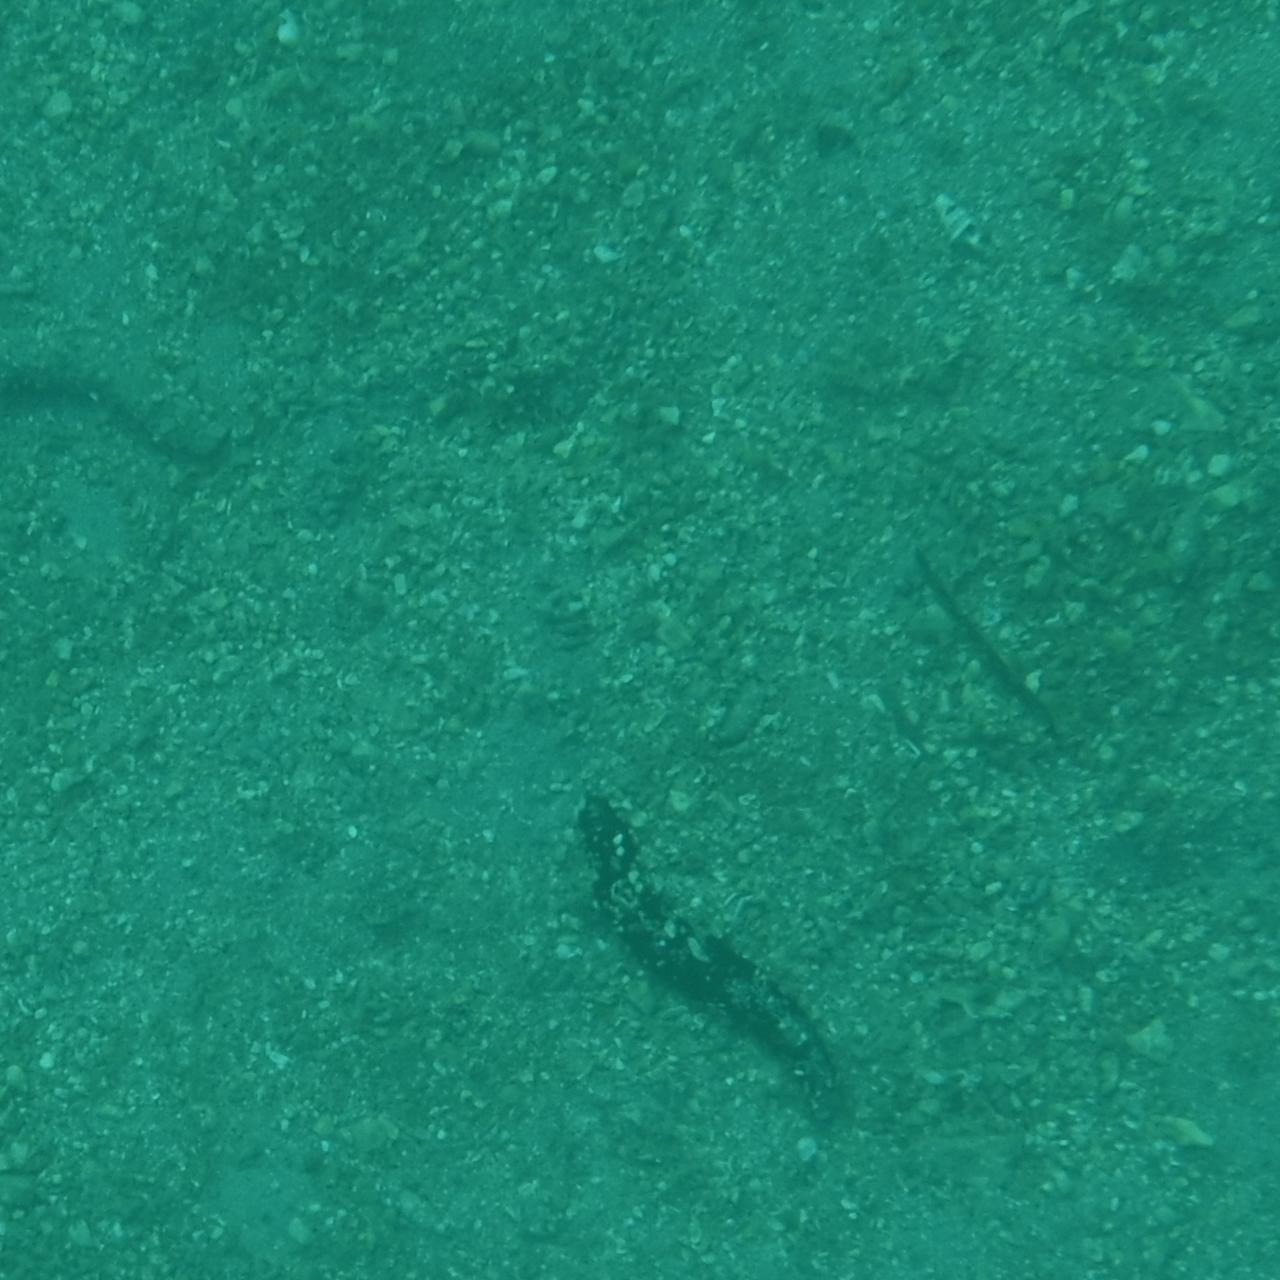Holothuria tubulosa: (565, 794, 871, 1141), (0, 298, 250, 474), (1151, 633, 1280, 969), (874, 1096, 1110, 1280), (1157, 243, 1280, 585), (1203, 519, 1280, 981), (2, 0, 384, 69), (0, 356, 205, 484), (1108, 1141, 1280, 1280), (0, 652, 217, 755), (0, 0, 222, 88), (150, 1128, 264, 1280), (0, 0, 91, 172)
